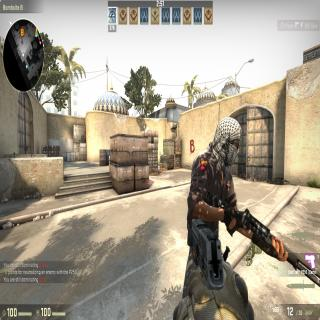T-Body: (182, 110, 240, 282)
T-Head: (210, 117, 243, 165)
